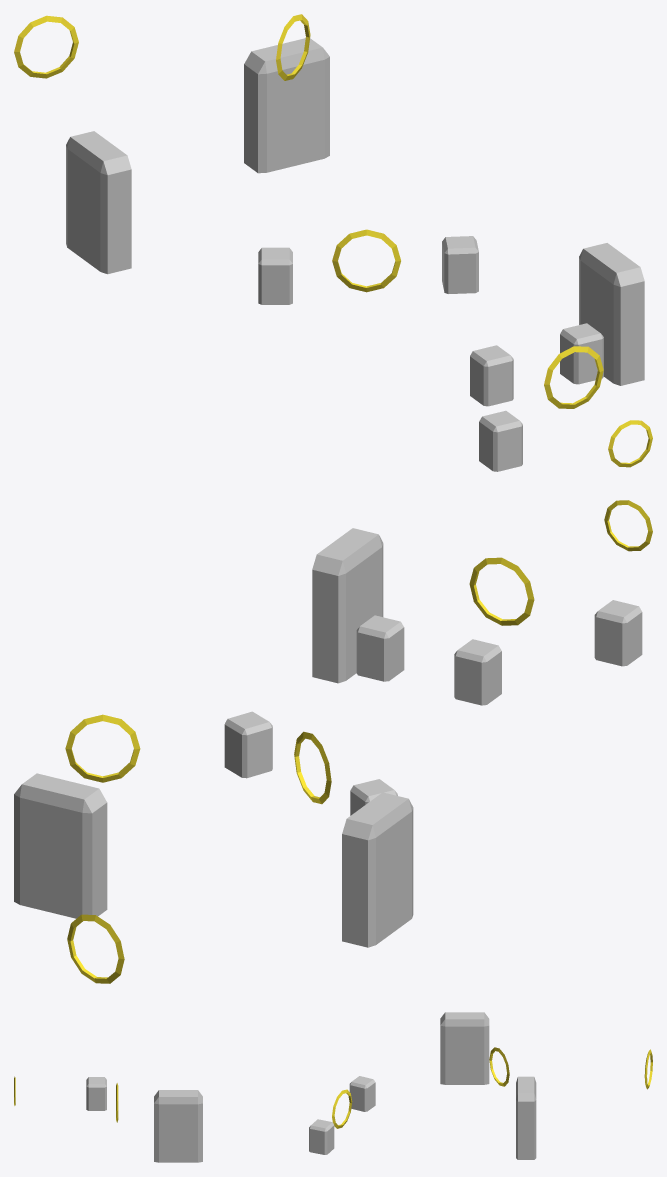
File: level.dae
3 views of the same model, one above another, from view 1: azimuth 30°, elevation 25°; view 2: azimuth 150°, elevation 25°; view 3: azimuth 270°, elevation 25° (orthographic). The views are drawn at different scales.
Parts seen in each view (by area): view 1: building1_proxy_004, building1_proxy_006, building1_proxy_005, building1_proxy, building1_proxy_001, building1_proxy_003, building1_proxy_007, building1_proxy_002, ring_proxy_003, ring_proxy_005, ring_proxy_001, ring_proxy_004; view 2: building1_proxy_004, building1_proxy_006, building1_proxy_005, building1_proxy_003, building1_proxy_007, building1_proxy, building1_proxy_001, ring_proxy_004, ring_proxy_001, ring_proxy_005, ring_proxy_003, building1_proxy_002 (+1 smaller); view 3: building1_proxy_006, building1_proxy_005, building1_proxy_004, building1_proxy_003, building1_proxy_002, building1_proxy, ring_proxy_004, ring_proxy_003.
Boxes of the visible parts, box(x1,y1,x2,y2) form: building1_proxy_004: box(244, 38, 329, 173); building1_proxy_006: box(66, 131, 131, 274); building1_proxy_005: box(579, 243, 644, 385); building1_proxy: box(479, 410, 522, 471); building1_proxy_001: box(470, 345, 513, 406); building1_proxy_003: box(442, 236, 478, 293); building1_proxy_007: box(560, 323, 603, 384); building1_proxy_002: box(258, 247, 292, 304); ring_proxy_003: box(332, 229, 400, 292); ring_proxy_005: box(14, 15, 78, 78); ring_proxy_001: box(544, 346, 603, 408); ring_proxy_004: box(276, 14, 310, 80); building1_proxy_004: box(14, 773, 107, 918); building1_proxy_006: box(342, 792, 413, 947); building1_proxy_005: box(312, 528, 383, 683); building1_proxy_003: box(224, 711, 272, 778); building1_proxy_007: box(356, 615, 404, 681); building1_proxy: box(594, 600, 642, 666); building1_proxy_001: box(454, 639, 501, 705); ring_proxy_004: box(65, 714, 140, 782); ring_proxy_001: box(469, 557, 534, 625); ring_proxy_005: box(67, 914, 124, 983); ring_proxy_003: box(294, 731, 331, 804); building1_proxy_002: box(350, 779, 397, 815); building1_proxy_006: box(440, 1012, 489, 1084); building1_proxy_005: box(154, 1090, 202, 1162); building1_proxy_004: box(516, 1076, 536, 1159); building1_proxy_003: box(309, 1119, 334, 1154); building1_proxy_002: box(349, 1076, 375, 1111); building1_proxy: box(86, 1077, 106, 1110); ring_proxy_004: box(489, 1047, 509, 1086); ring_proxy_003: box(332, 1089, 352, 1128).
Size of the model in its own units: 10 by 31.25 by 5.21.
